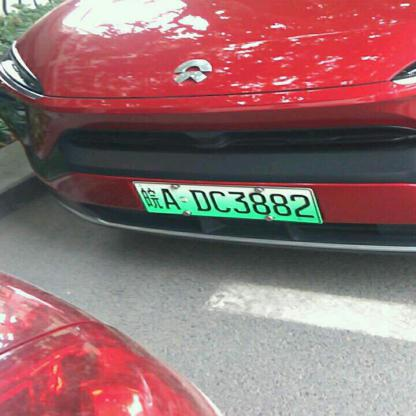lp: (132, 181, 321, 222)
